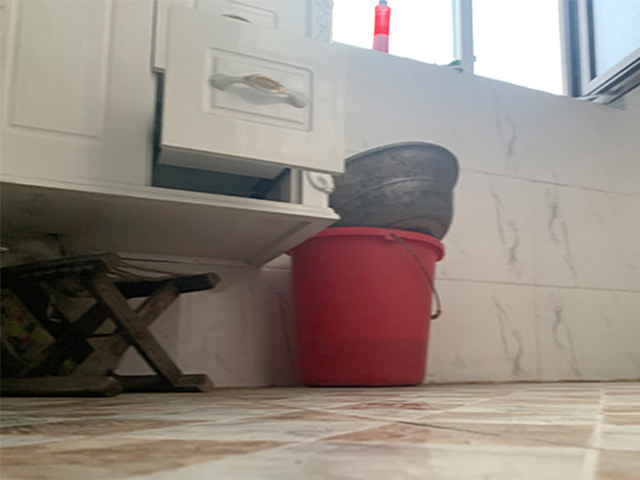stool: (1, 254, 221, 399)
